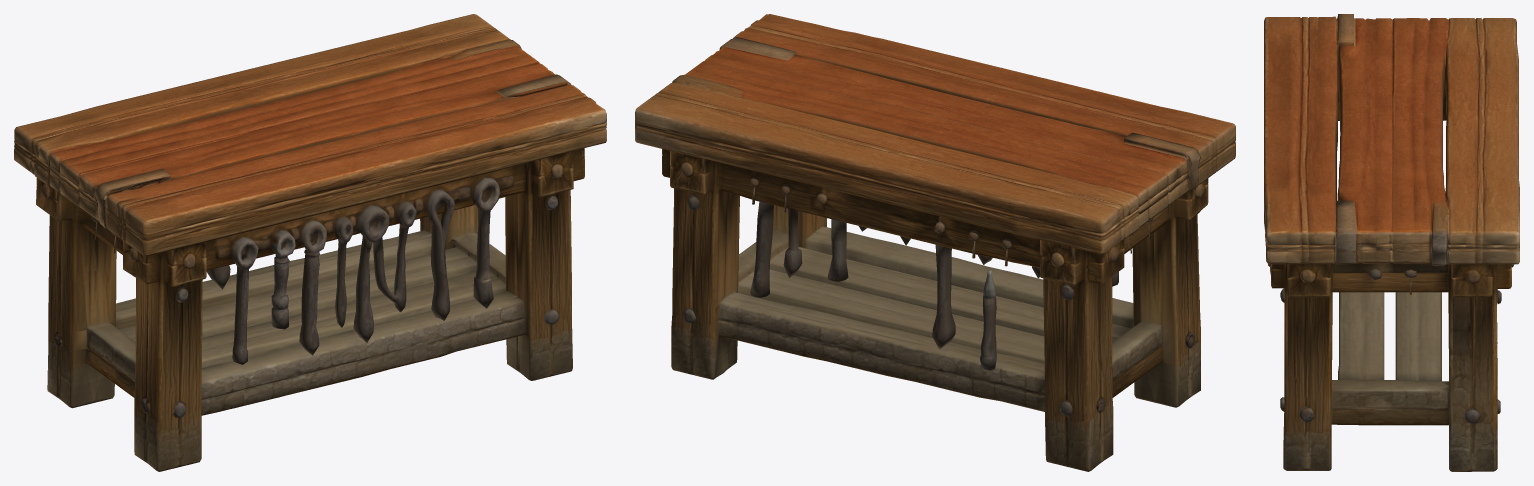
The model's file is cluster of three small smooth grey pebb… #144.glb.
3 views of the same model, side by side, from view 1: azimuth 30°, elevation 25°; view 2: azimuth 150°, elevation 25°; view 3: azimuth 270°, elevation 25° (orthographic). The views are drawn at different scales.
Visible parts, largest first — view 1: tripo_node_e61ae79c-30f3-4455-b0f8-ec152a305c73; view 2: tripo_node_e61ae79c-30f3-4455-b0f8-ec152a305c73; view 3: tripo_node_e61ae79c-30f3-4455-b0f8-ec152a305c73.
Part boxes in pixels (x1,y1,x2,y2): tripo_node_e61ae79c-30f3-4455-b0f8-ec152a305c73: (14,14,606,471); tripo_node_e61ae79c-30f3-4455-b0f8-ec152a305c73: (635,14,1235,471); tripo_node_e61ae79c-30f3-4455-b0f8-ec152a305c73: (1264,14,1519,471).
Size of the model in its own units: 0.9755 by 0.5326 by 0.483.
Materials: 1 (1 with a texture image).
